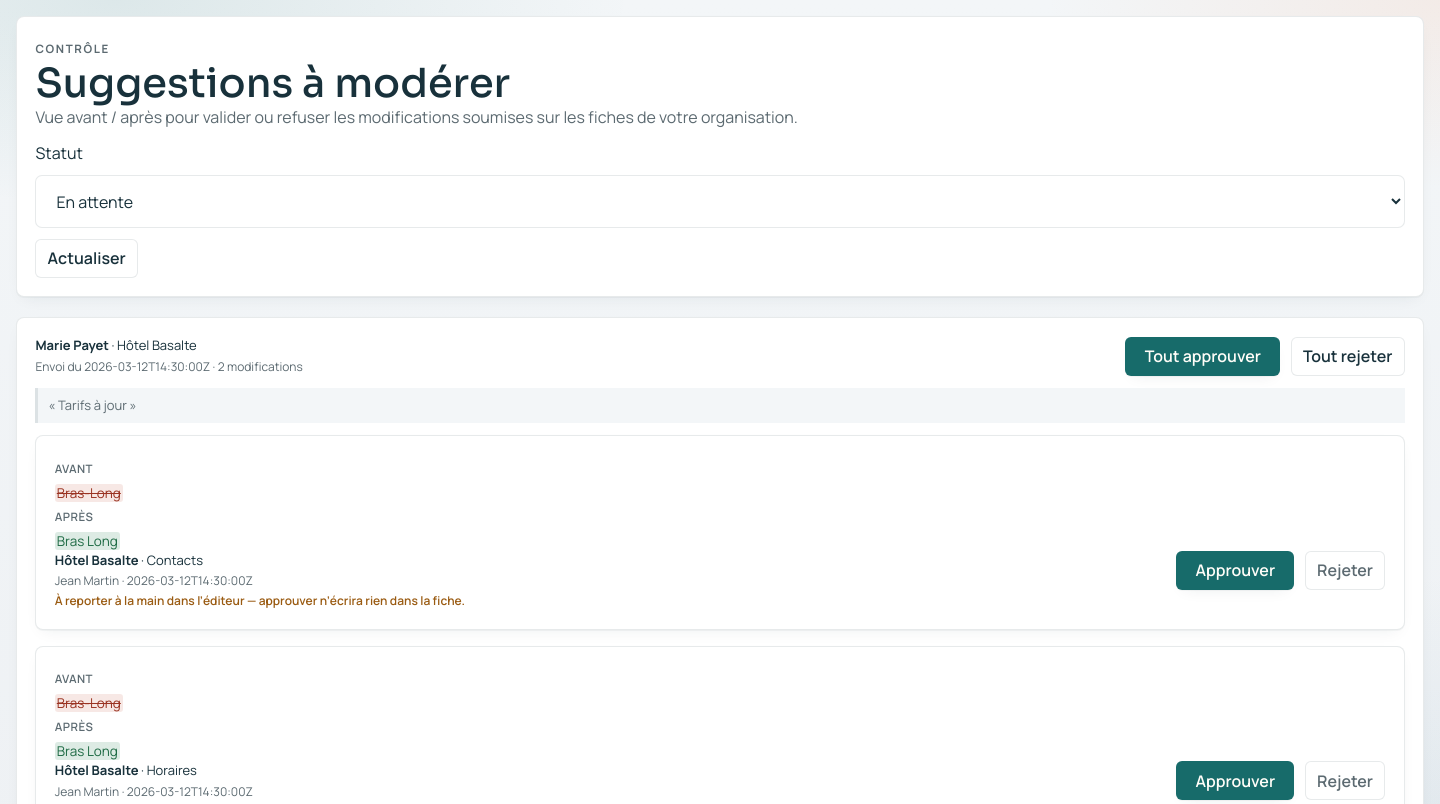
Test case: ModerationPage — D9 : attestation du report manuel › D9 : après un geste groupé, l’écran DIT ce que le RPC a fait
The image size is (1440, 804).
What coordinates should you click on to do the following:
click the button "Tout approuver"
I would click on:
 (1203, 356)
Its box is [1125, 337, 1280, 376].
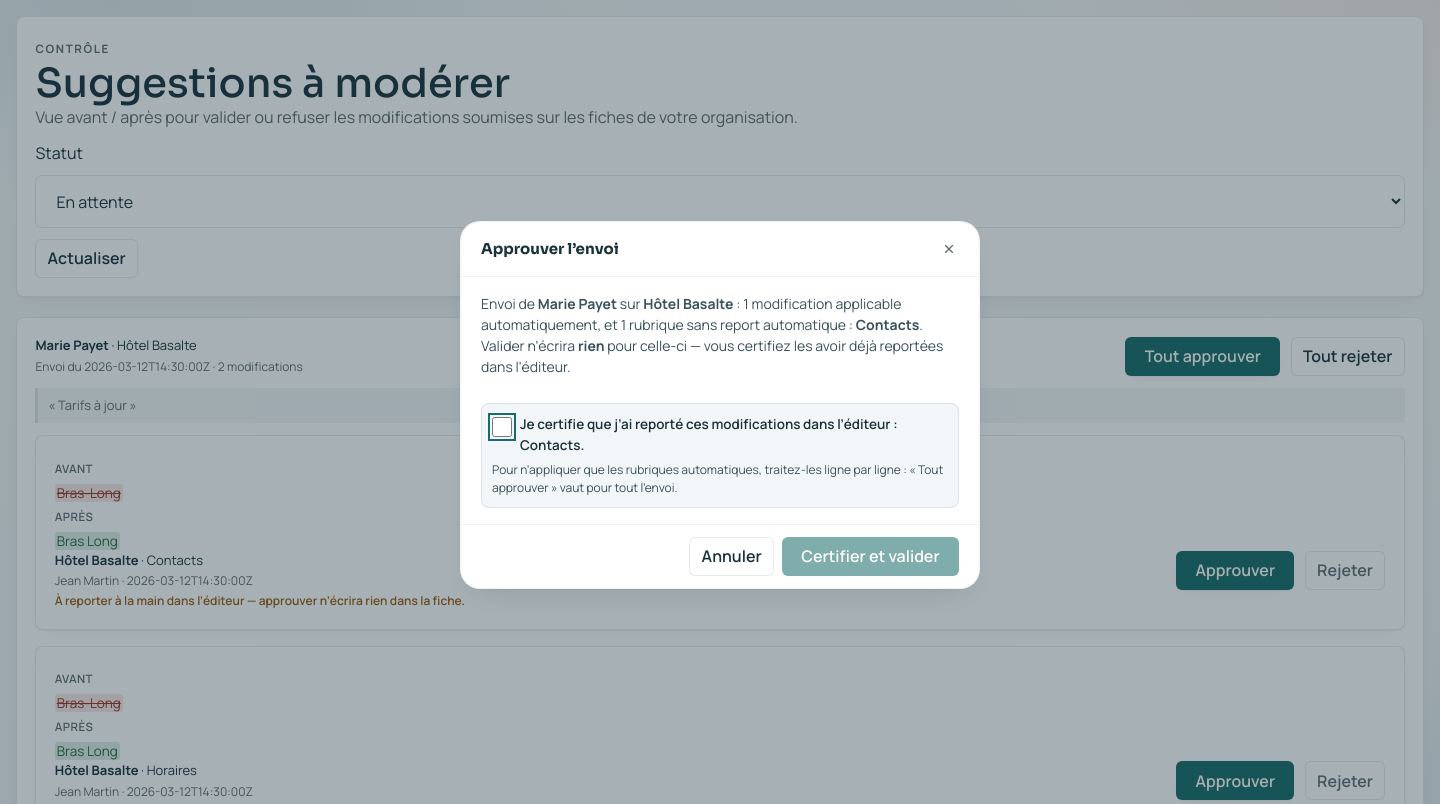
What coordinates should you click on to do the following:
click the checkbox named "j.ai reporté ces modifications"
I would click on:
 (502, 427)
Its box is [492, 417, 512, 437].
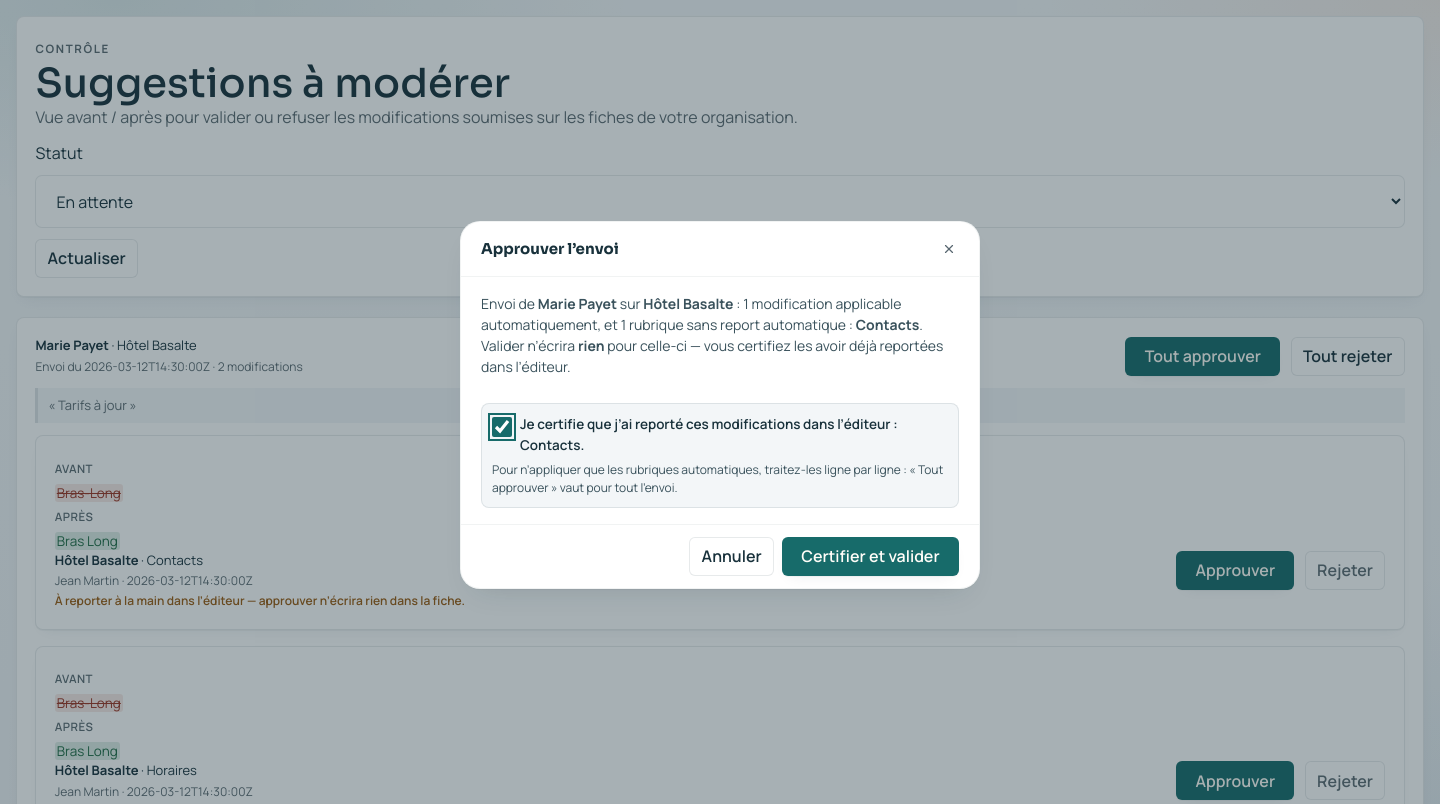
What coordinates should you click on to do the following:
click the button "Certifier et valider"
I would click on:
 (870, 556)
Its box is [782, 537, 959, 576].
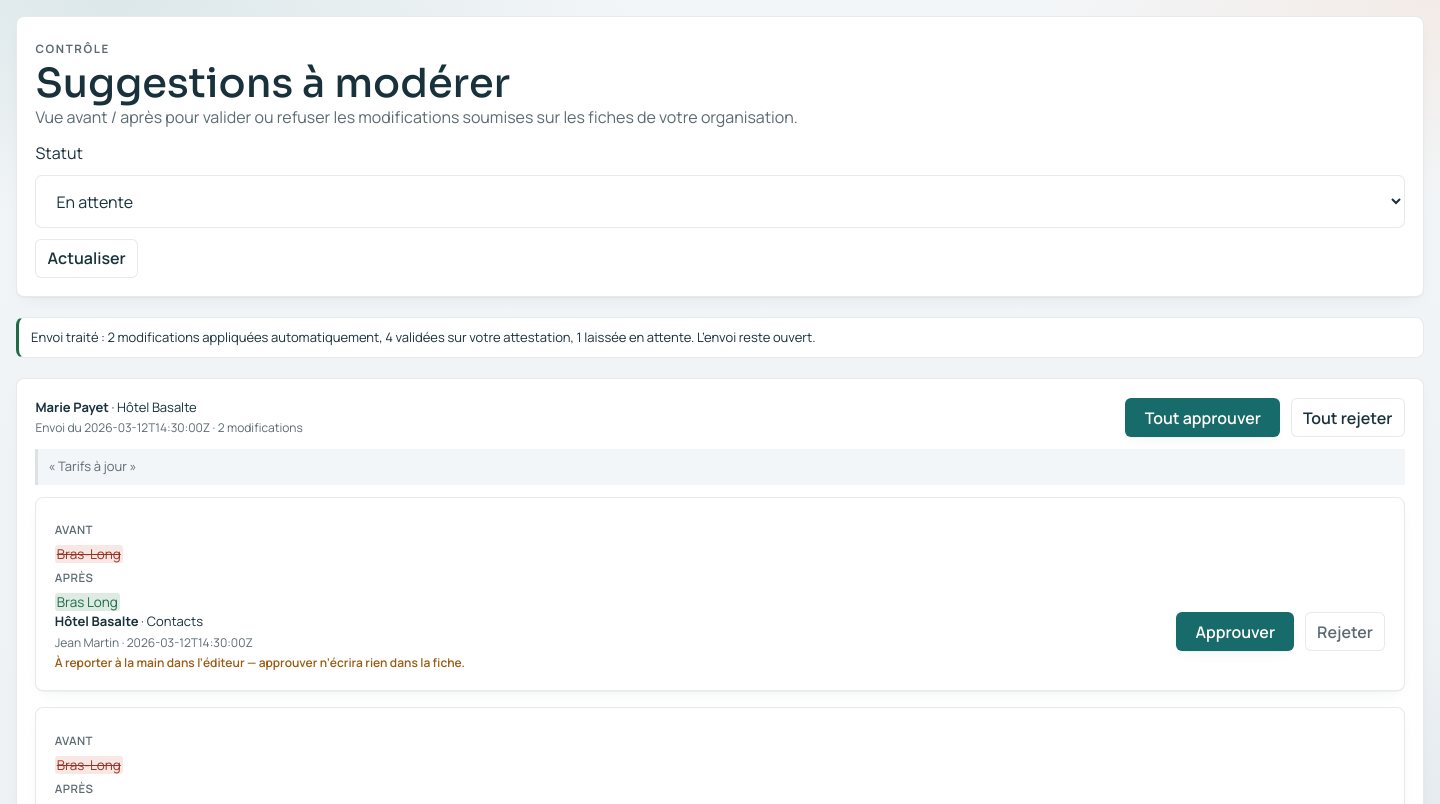
Expected: the message shows "2 modifications appliquées automatiquement", [31, 328, 815, 346]
Expected: the message shows "4 validées sur votre attestation", [31, 328, 815, 346]
Expected: the message shows "1 laissée en attente", [31, 328, 815, 346]
